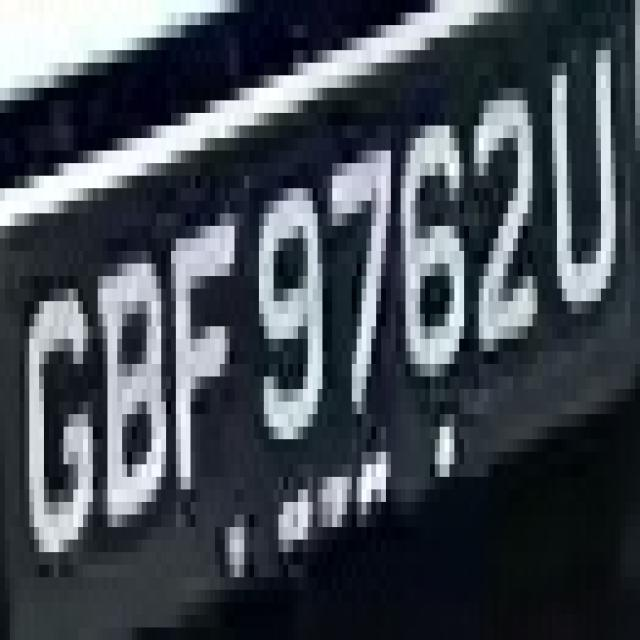2: (454, 38, 557, 364)
6: (396, 100, 469, 377)
7: (312, 88, 406, 452)
9: (244, 176, 332, 527)
B: (88, 213, 166, 540)
F: (161, 188, 244, 552)
G: (19, 264, 93, 602)
U: (542, 12, 630, 339)
